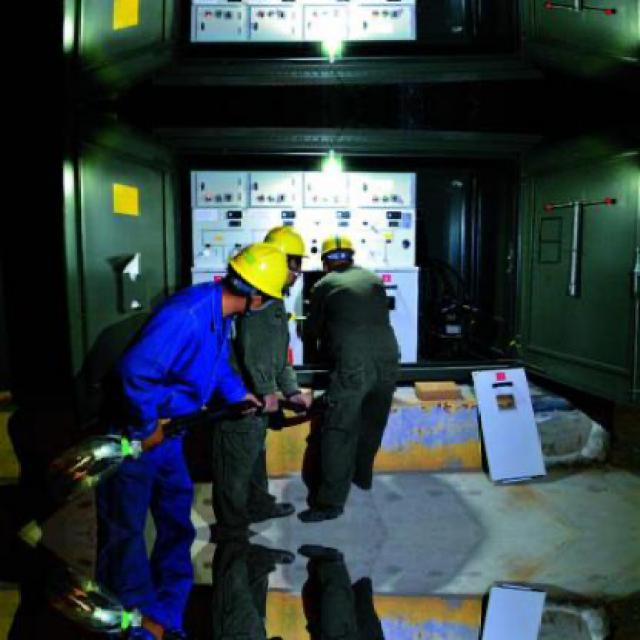2: (99, 242, 288, 532), (308, 233, 404, 520), (217, 225, 303, 531), (97, 535, 288, 639), (217, 536, 305, 638), (306, 548, 405, 638)
helmet: (228, 242, 290, 304), (263, 225, 303, 285), (316, 233, 356, 270)
